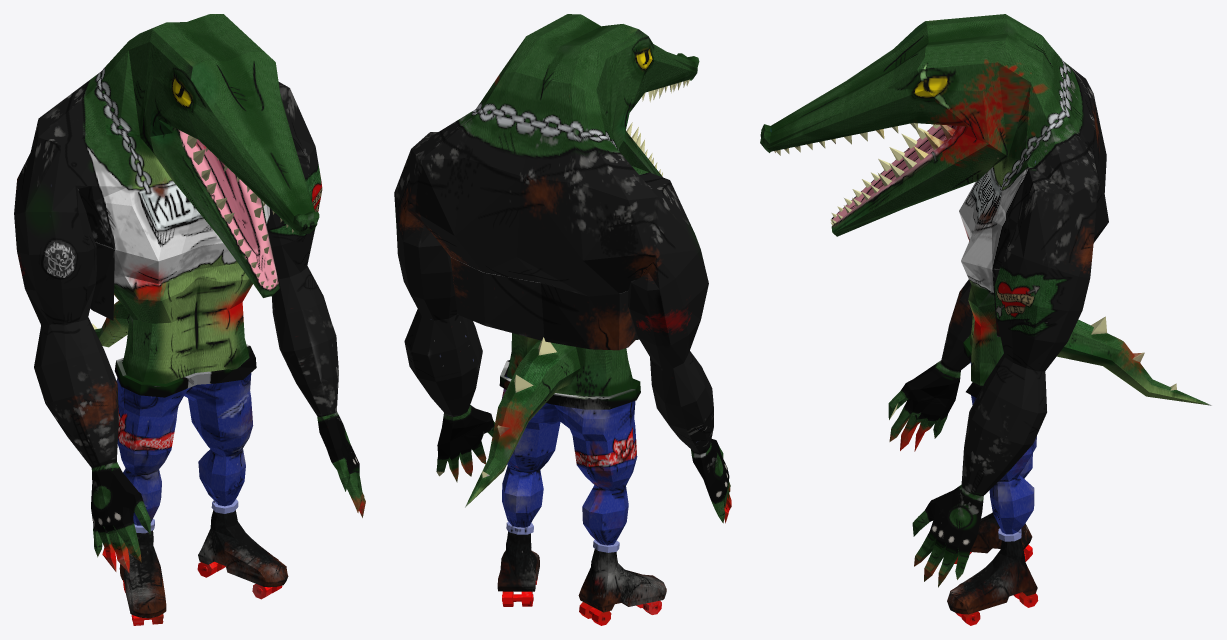
The model's file is cocodrilaBonesSelect_000053.obj.
3 renders of one model, left to right at view 1: azimuth 30°, elevation 25°; view 2: azimuth 150°, elevation 25°; view 3: azimuth 270°, elevation 25°, orthographic. The views are drawn at different scales.
Parts seen in each view (by area): view 1: Crocodile.002_Cylinder.002; view 2: Crocodile.002_Cylinder.002; view 3: Crocodile.002_Cylinder.002.
Boxes of the visible parts, box(x1,y1,x2,y2) form: Crocodile.002_Cylinder.002: box(14, 14, 365, 625); Crocodile.002_Cylinder.002: box(394, 14, 731, 625); Crocodile.002_Cylinder.002: box(760, 14, 1211, 625).
Bounding box in the file's own units: 3.7 × 6.72 × 4.9.
